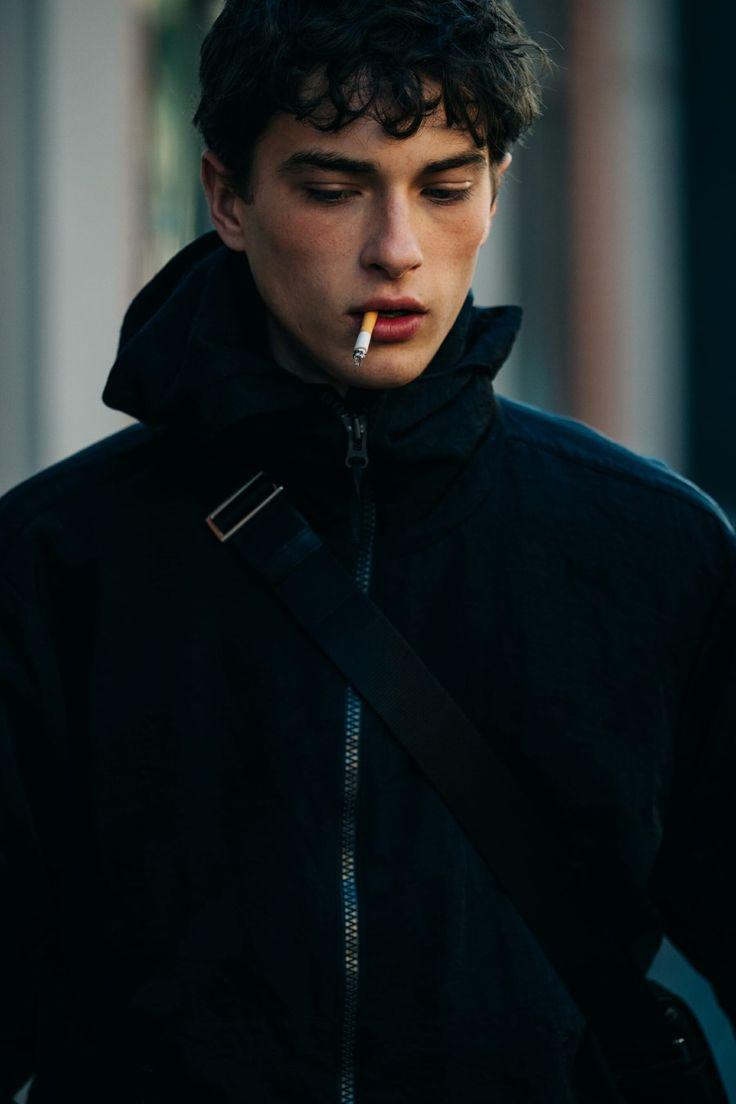cigarette: (353, 310, 380, 367)
